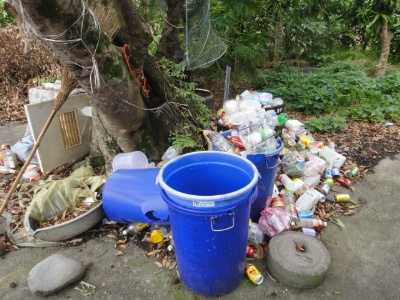bottle: (291, 216, 328, 231), (244, 261, 265, 286), (333, 190, 351, 205), (319, 177, 333, 195)
bowl: (26, 199, 108, 241)
bucket: (154, 150, 259, 295), (99, 167, 171, 223), (111, 148, 148, 172)
plastic_bag: (25, 166, 93, 222), (258, 192, 291, 236), (282, 151, 326, 180)
